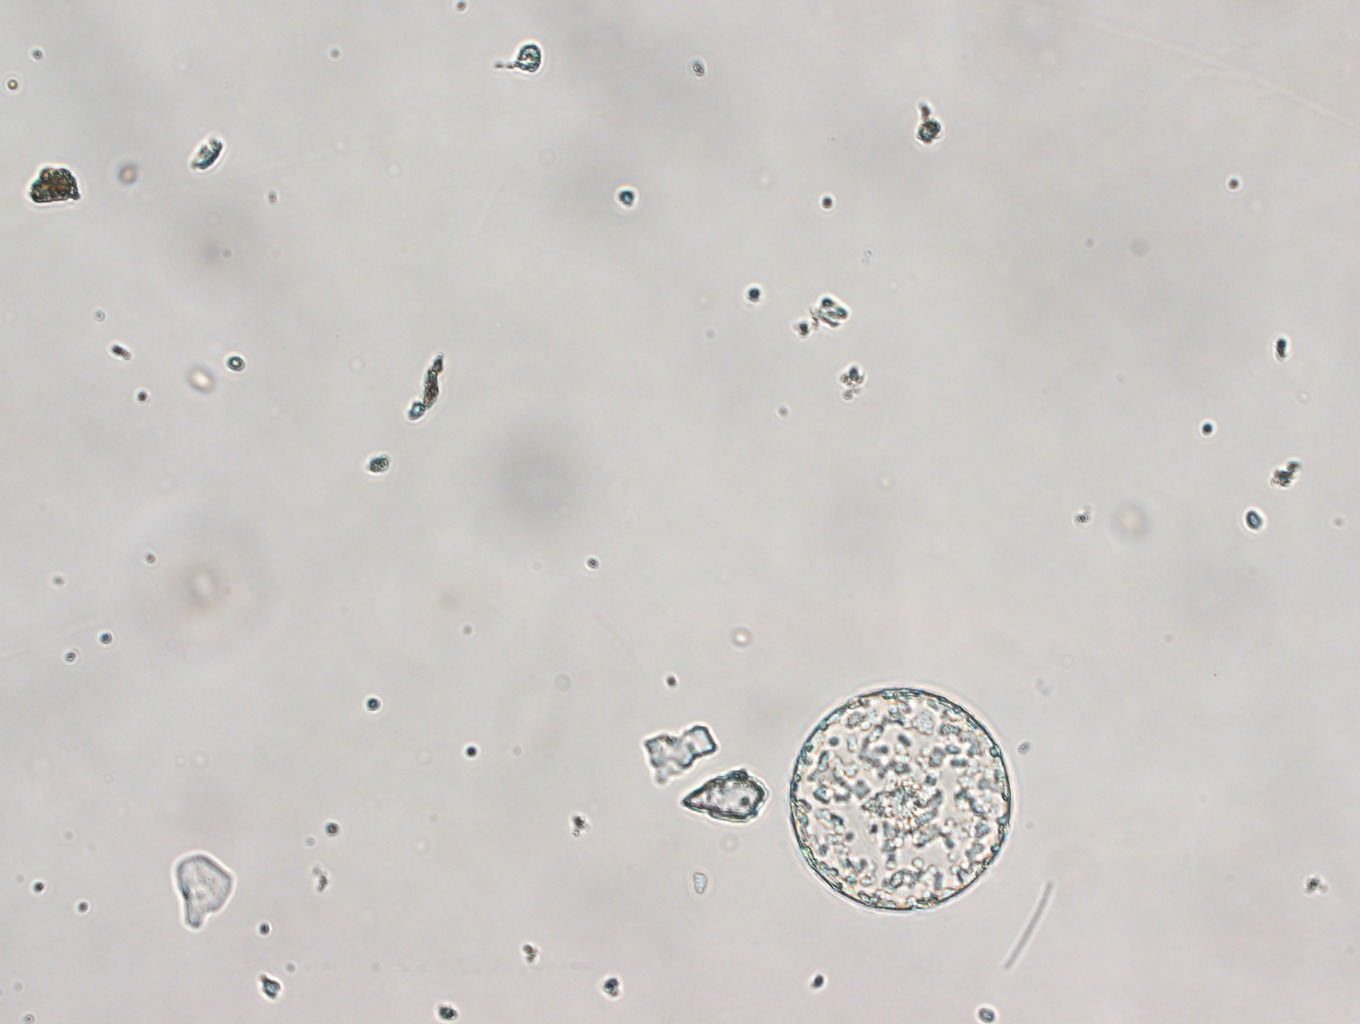coscinodiscus: (788, 685, 1012, 914)
